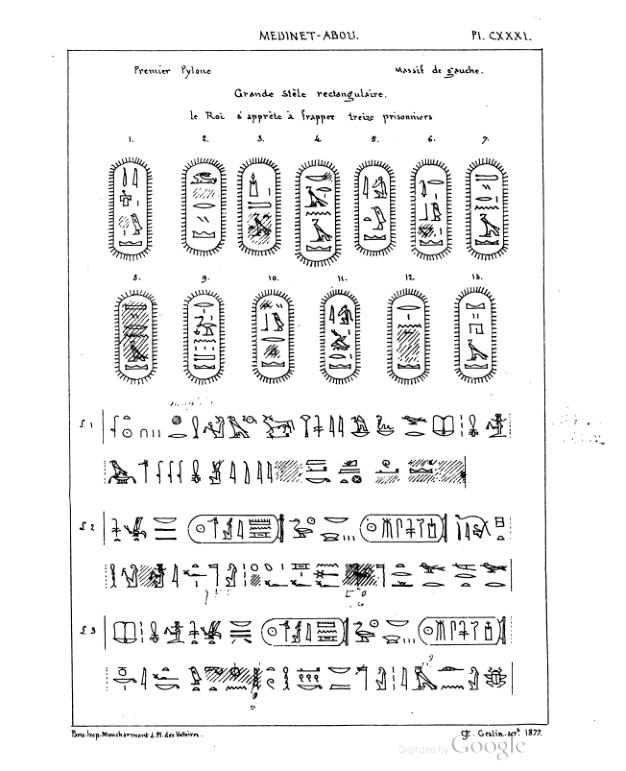circle: (374, 283, 438, 385), (240, 282, 302, 386), (290, 157, 347, 269), (457, 154, 513, 260), (404, 154, 458, 263), (174, 156, 230, 261), (232, 155, 286, 261), (348, 155, 400, 259), (103, 153, 152, 262), (176, 285, 229, 384), (448, 284, 500, 383), (313, 288, 364, 386), (111, 288, 160, 388), (183, 509, 289, 552), (256, 612, 354, 652), (356, 510, 452, 548), (415, 612, 511, 649)
